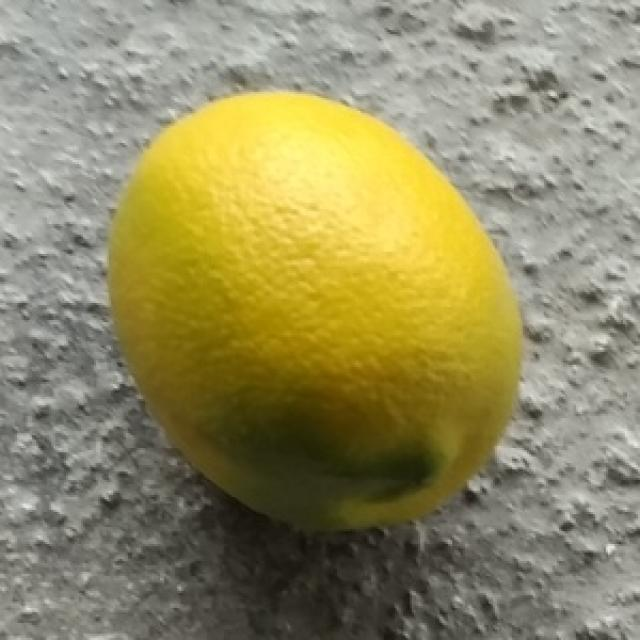Lemon: (105, 87, 526, 539)
